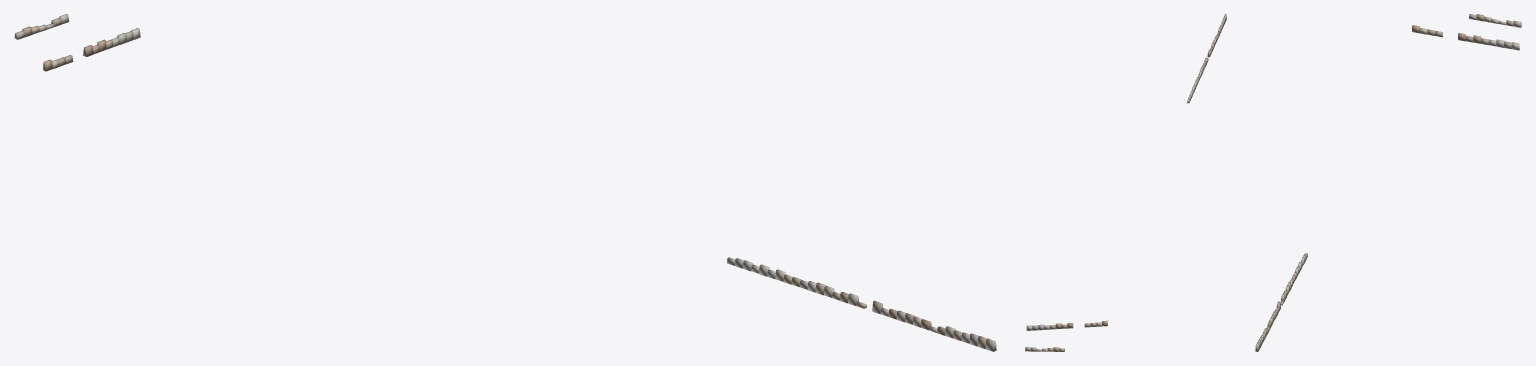
The model's file is farm_-33_-29_collision.glb.
The picture shows the model from 3 angles, left to right: view 1: azimuth 30°, elevation 25°; view 2: azimuth 150°, elevation 25°; view 3: azimuth 330°, elevation 25°; orthographic projection. The views are drawn at different scales.
Parts seen in each view (by area): view 1: geometry_0; view 2: geometry_0; view 3: geometry_0.
Boxes of the visible parts, bbox=[...] form: geometry_0: bbox=[14, 14, 996, 351]; geometry_0: bbox=[1025, 14, 1226, 351]; geometry_0: bbox=[1255, 14, 1521, 351].
Size of the model in its own units: 61.21 by 14.44 by 189.
